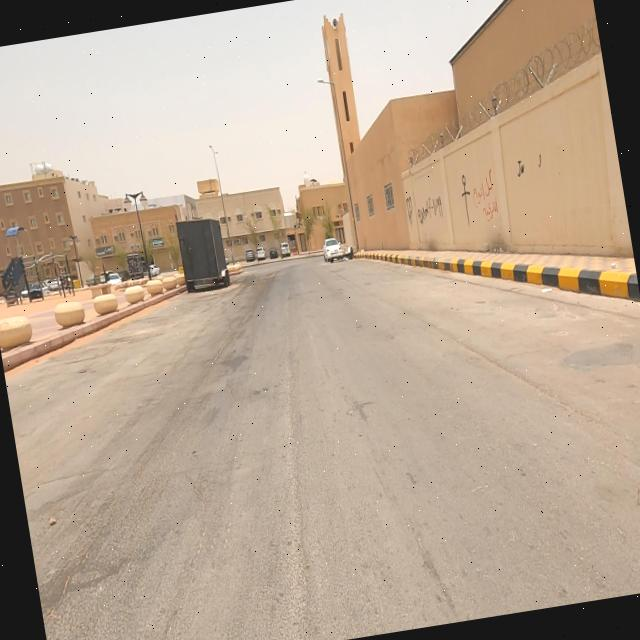Graffiti: (458, 166, 503, 228), (416, 194, 446, 226), (404, 194, 416, 226), (514, 159, 526, 178), (534, 152, 546, 168)
